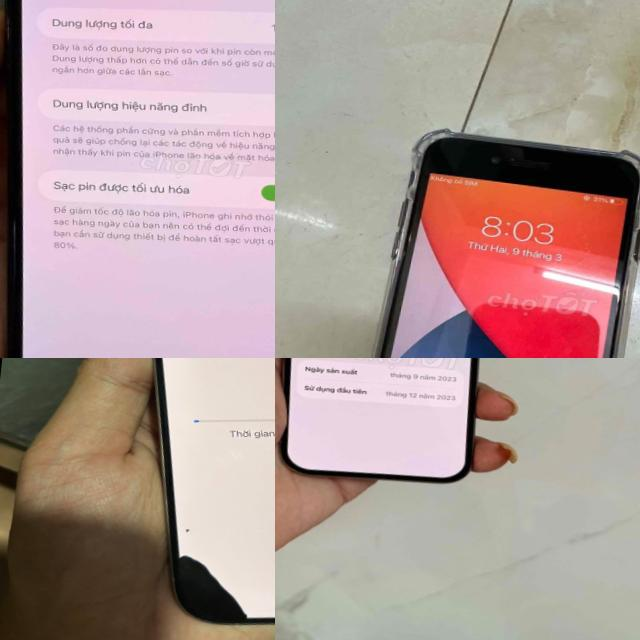gen_11: (0, 0, 275, 358)
gen_14: (97, 358, 275, 640)
gen_15: (275, 358, 511, 499)
scratch: (340, 118, 640, 358)
screen_defect: (171, 552, 253, 624), (182, 525, 190, 533)
